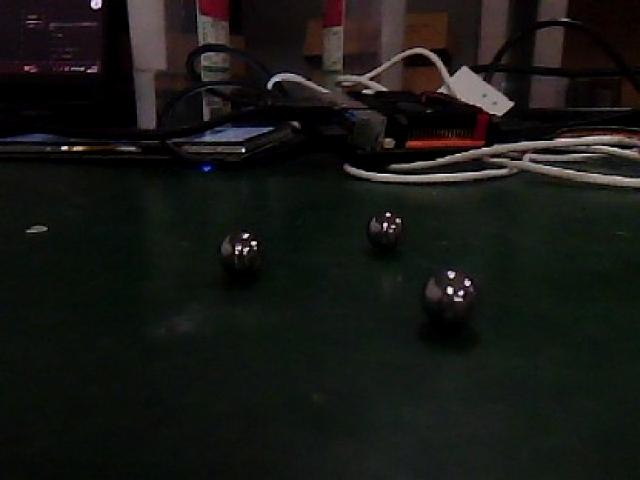steel-ball: (405, 268, 492, 334), (202, 213, 270, 290), (340, 191, 423, 252)
